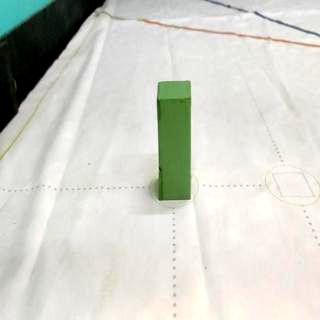greenbox: (156, 78, 193, 203)
